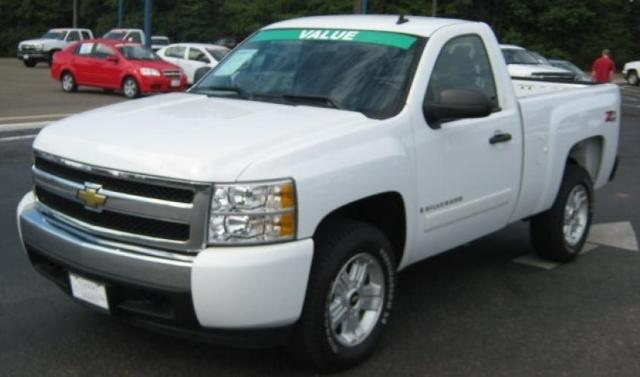pickup-truck: (17, 13, 623, 371)
